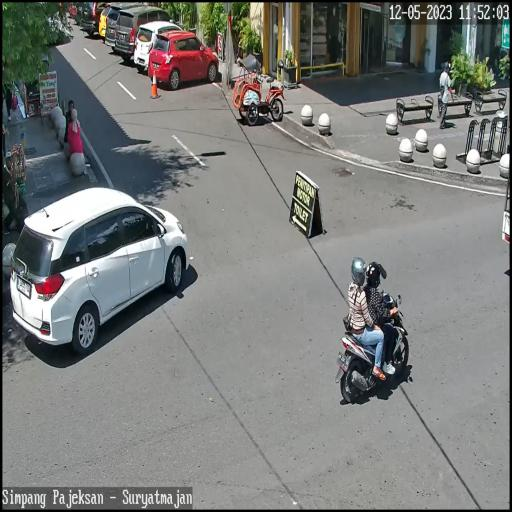mobil: (8, 184, 200, 349), (149, 30, 216, 90), (115, 5, 186, 61), (135, 22, 187, 68)
motor: (334, 306, 412, 409)
